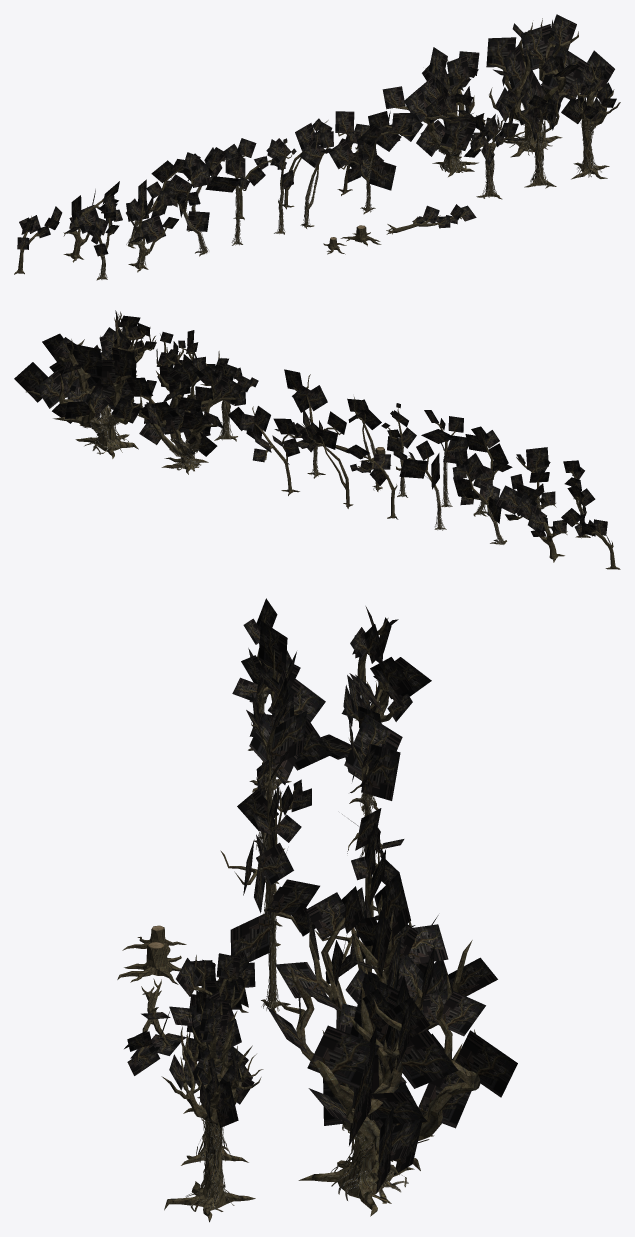
File: Trees.fbx
3 renders of one model, top to bottom at view 1: azimuth 30°, elevation 25°; view 2: azimuth 150°, elevation 25°; view 3: azimuth 270°, elevation 25°, orthographic. The views are drawn at different scales.
Visible parts, largest first — view 1: Tree.Big_1, Tree.Big_2, Tree.Thin_4, Tree.Woman_3, Tree.Woman_2, Tree.Thin_1, Tree.Woman_1, Tree.Small_2, Tree.Thin.Bent_4, Tree.Thin_5, Tree.Small.Bent_2, Tree.Thin_2 (+8 smaller); view 2: Tree.Big_1, Tree.Big_2, Tree.Thin.Bent_4, Tree.Thin.Bent_1, Tree.Small.Bent_2, Tree.Thin_4, Tree.Small_2, Tree.Thin_5, Tree.Thin_1, Tree.Woman_1, Tree.Thin.Bent_5, Tree.Thin.Bent_3 (+7 smaller); view 3: Tree.Big_1, Tree.Big_2, Tree.Woman_3, Tree.Thin_4, Tree.Thin.Bent_5, Tree.Small_2, Tree.Woman_2, Tree.Thin_5, Tree.Small.Bent_2, Tree.Thin_1, Tree.Fallen, Tree.Woman_1 (+9 smaller).
Boxes of the visible parts, left/top/right/bottom form: Tree.Big_1: left=486, top=14, right=614, bottom=157; Tree.Big_2: left=382, top=47, right=484, bottom=176; Tree.Thin_4: left=329, top=113, right=413, bottom=214; Tree.Woman_3: left=561, top=63, right=620, bottom=179; Tree.Woman_2: left=500, top=88, right=561, bottom=188; Tree.Thin_1: left=163, top=152, right=210, bottom=256; Tree.Woman_1: left=464, top=107, right=526, bottom=199; Tree.Small_2: left=126, top=179, right=178, bottom=272; Tree.Thin.Bent_4: left=335, top=111, right=423, bottom=195; Tree.Thin_5: left=205, top=138, right=256, bottom=245; Tree.Small.Bent_2: left=63, top=181, right=122, bottom=262; Tree.Thin_2: left=299, top=127, right=334, bottom=228; Tree.Big_1: left=14, top=316, right=142, bottom=458; Tree.Big_2: left=126, top=360, right=242, bottom=474; Tree.Thin.Bent_4: left=228, top=406, right=299, bottom=495; Tree.Thin.Bent_1: left=452, top=451, right=506, bottom=544; Tree.Small.Bent_2: left=495, top=485, right=567, bottom=562; Tree.Thin_4: left=284, top=369, right=346, bottom=478; Tree.Small_2: left=510, top=447, right=556, bottom=528; Tree.Thin_5: left=421, top=410, right=468, bottom=507; Tree.Thin_1: left=465, top=426, right=512, bottom=516; Tree.Woman_1: left=192, top=351, right=258, bottom=441; Tree.Thin.Bent_5: left=393, top=440, right=446, bottom=530; Tree.Thin.Bent_3: left=345, top=444, right=398, bottom=519; Tree.Big_1: left=267, top=936, right=517, bottom=1216; Tree.Big_2: left=275, top=872, right=497, bottom=1083; Tree.Woman_3: left=161, top=997, right=263, bottom=1222; Tree.Thin_4: left=220, top=834, right=319, bottom=1012; Tree.Thin.Bent_5: left=344, top=714, right=402, bottom=865; Tree.Small_2: left=232, top=621, right=325, bottom=792; Tree.Woman_2: left=176, top=951, right=249, bottom=1165; Tree.Thin_5: left=249, top=693, right=306, bottom=883; Tree.Small.Bent_2: left=341, top=657, right=431, bottom=723; Tree.Thin_1: left=249, top=651, right=331, bottom=851; Tree.Fallen: left=124, top=978, right=186, bottom=1075; Tree.Woman_1: left=169, top=955, right=255, bottom=1113.
Bounding box in the file's own units: 5257 × 978 × 1524.
